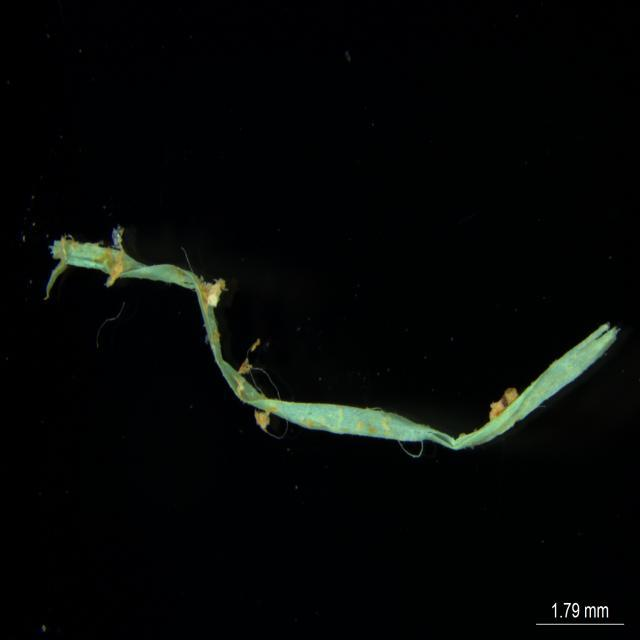fibers: (24, 215, 621, 492)
